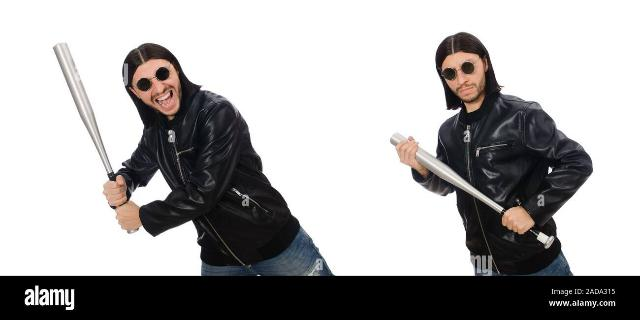baseball bat: (391, 131, 554, 249), (54, 43, 140, 235)
